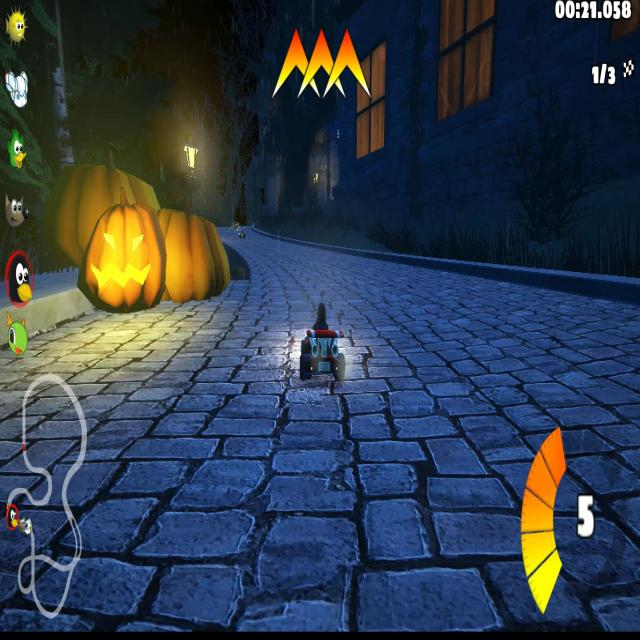obstacle: (91, 210, 164, 306)
player_kart: (299, 301, 353, 395)
track: (359, 256, 607, 417), (104, 323, 283, 483), (244, 235, 353, 290)
